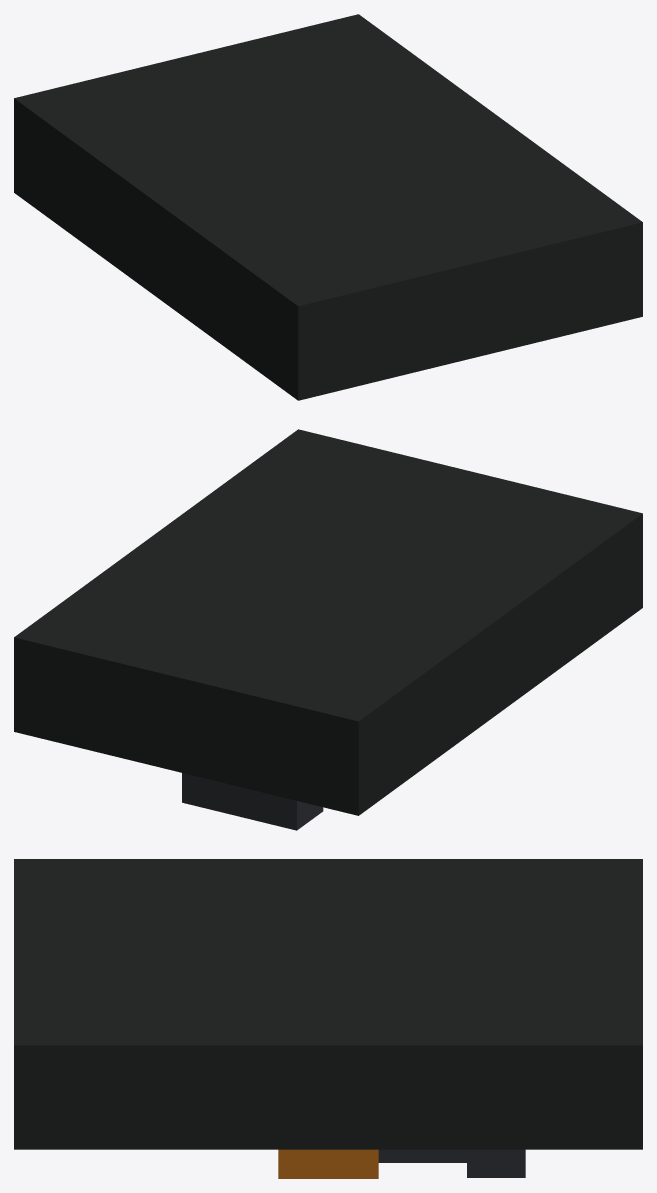
Rendered from SM_MoriaTorchNiche.obj.
3 views of the same model, one above another, from view 1: azimuth 30°, elevation 25°; view 2: azimuth 150°, elevation 25°; view 3: azimuth 270°, elevation 25° (orthographic). The views are drawn at different scales.
Parts seen in each view (by area): view 1: SM_MoriaTorchNiche; view 2: SM_MoriaTorchNiche; view 3: SM_MoriaTorchNiche.
Part boxes in pixels (bbox=[...]): SM_MoriaTorchNiche: bbox=[14, 14, 642, 400]; SM_MoriaTorchNiche: bbox=[14, 429, 642, 830]; SM_MoriaTorchNiche: bbox=[14, 859, 642, 1178].
Bounding box in the file's own units: 210 × 110 × 300.
